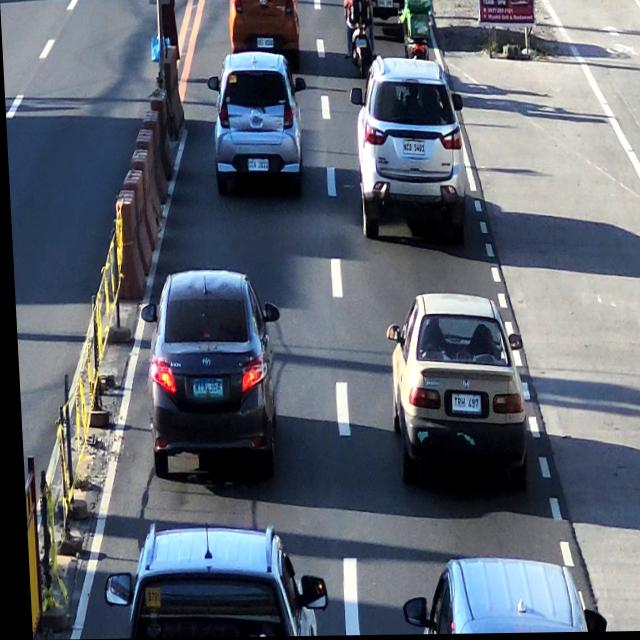Car: (142, 271, 277, 478), (384, 295, 522, 479), (119, 524, 315, 638), (355, 61, 464, 250), (212, 53, 305, 198), (412, 559, 581, 635), (226, 0, 299, 53)
License-Plate: (448, 395, 477, 417), (190, 378, 220, 399), (402, 143, 425, 157), (247, 159, 267, 173), (256, 39, 275, 50), (355, 40, 366, 50)
Motorcycle: (346, 0, 372, 72), (400, 0, 432, 58)
